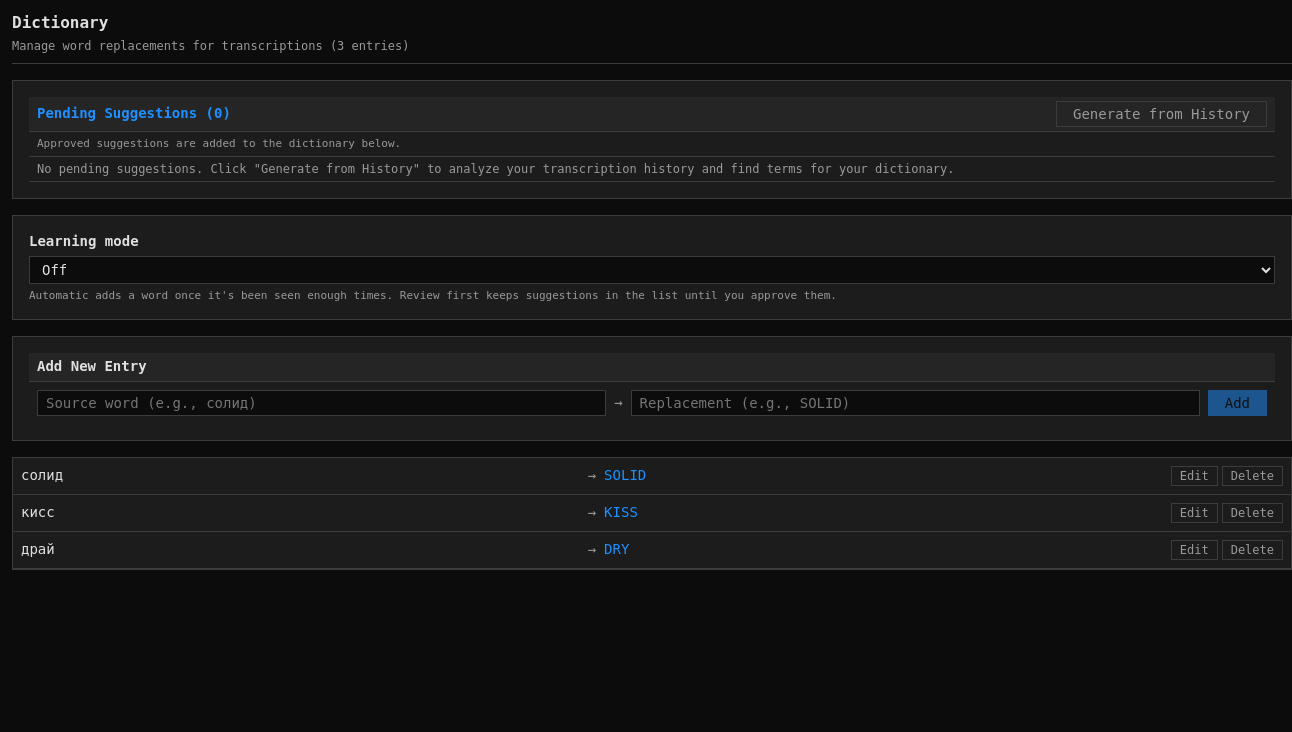
DictionaryPage › validates duplicate source from backend
Type "солид" into the field with placeholder "Source word (e.g., солид)" at (322, 403), box [37,390,606,416]
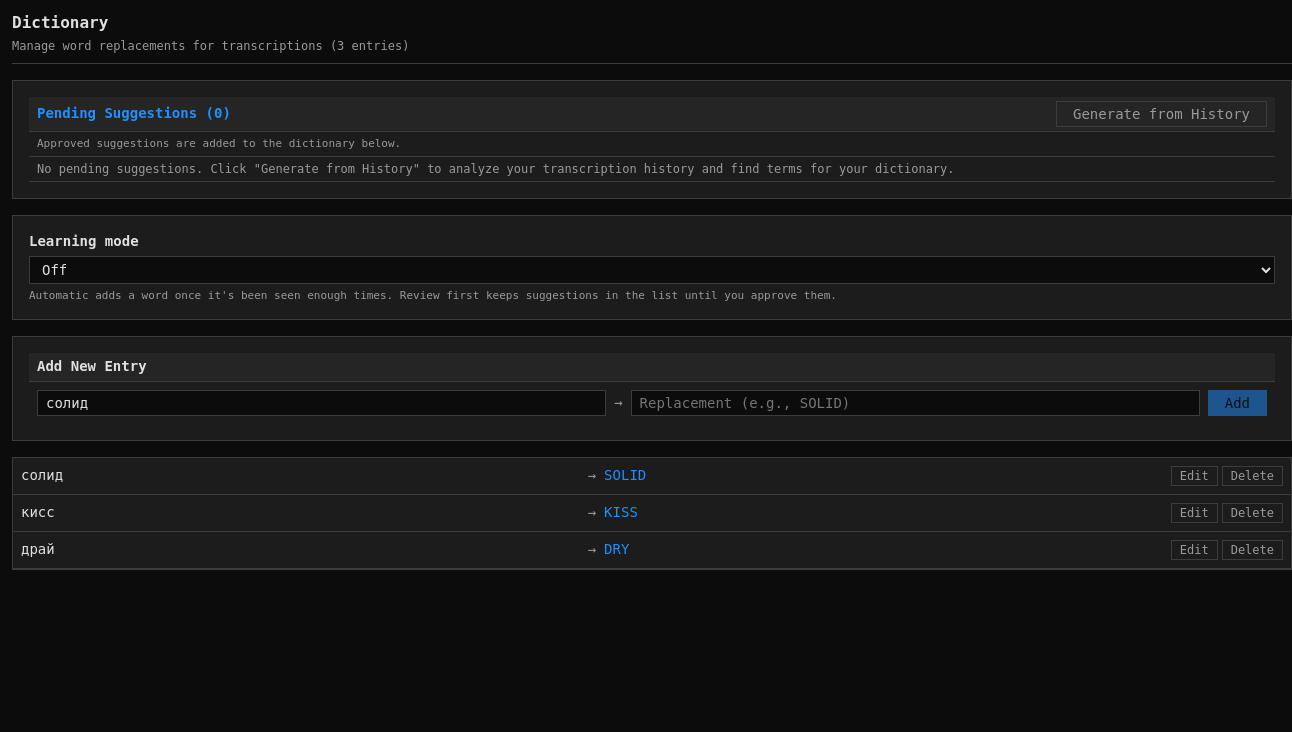
Type "SOLID2" into the field with placeholder "Replacement (e.g., SOLID)" at (915, 403), box [631,390,1200,416]
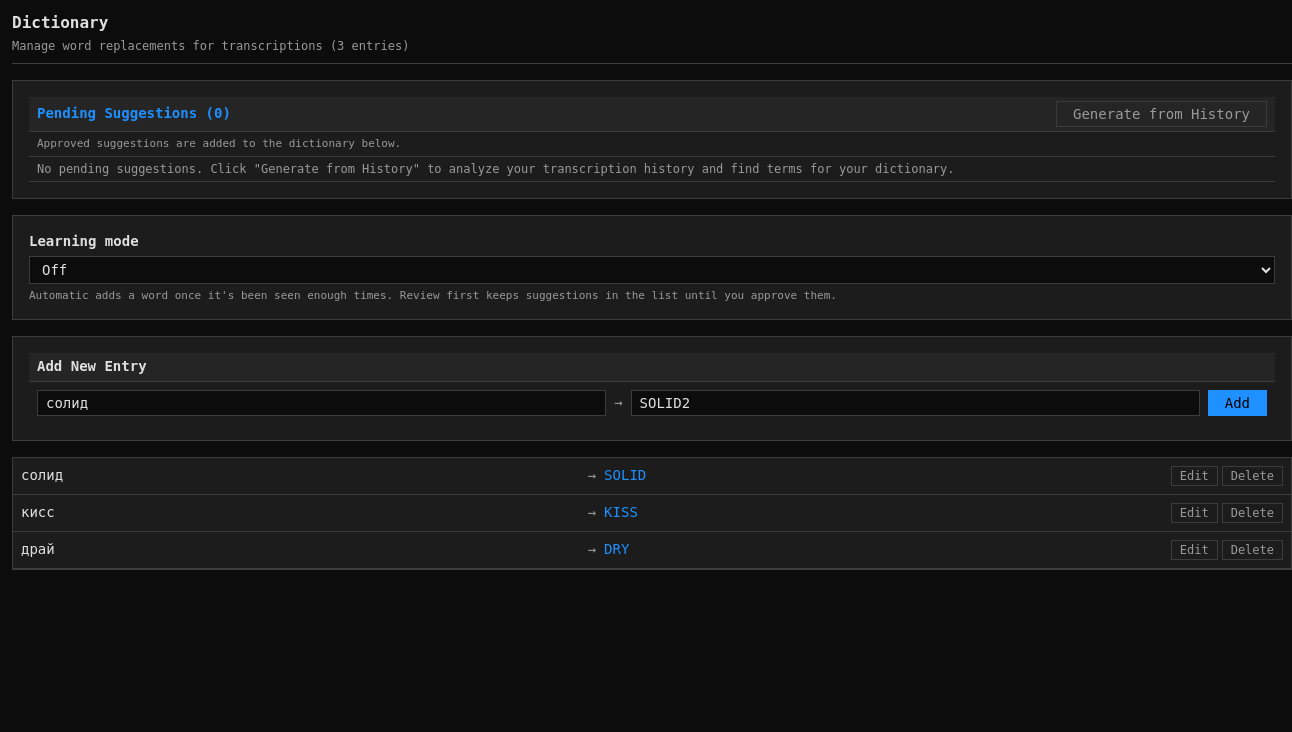
Click the button "Add" at (1237, 403), box [1208,390,1267,416]
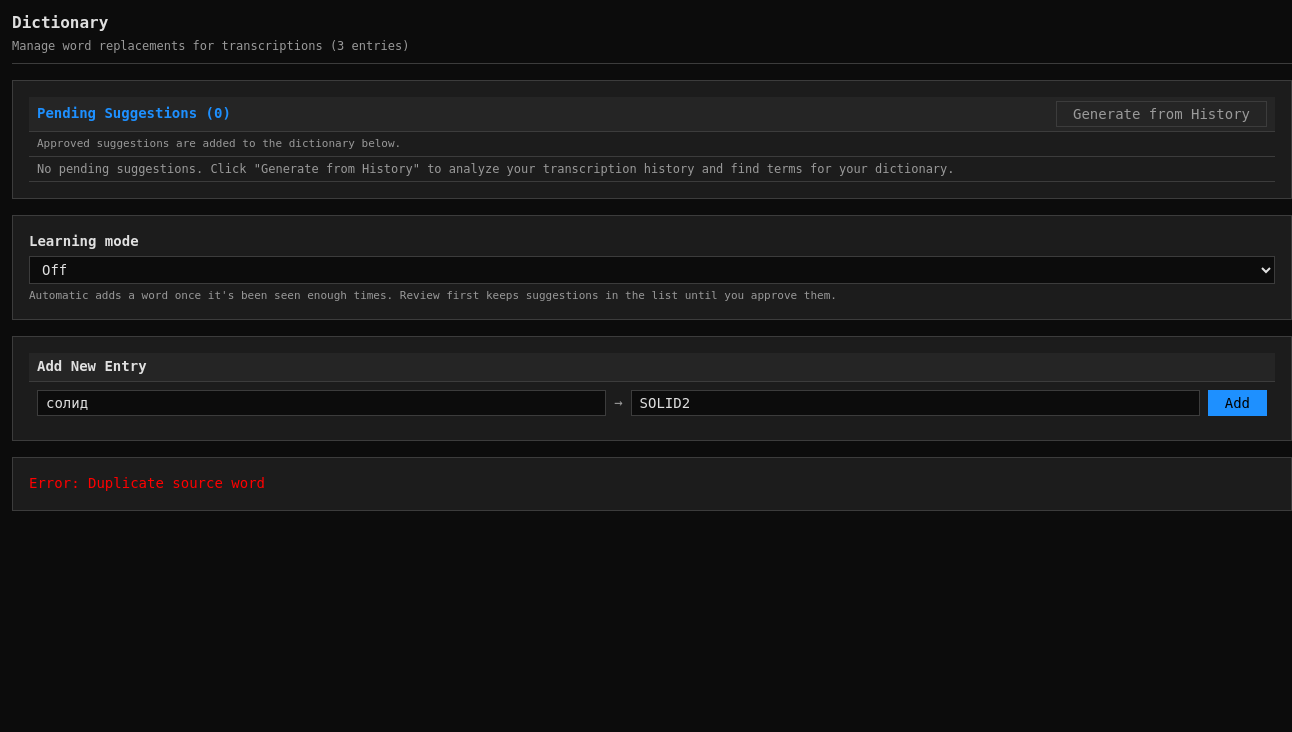
Expected: the text "Error: Duplicate source word" is shown, [29,475,265,491]
